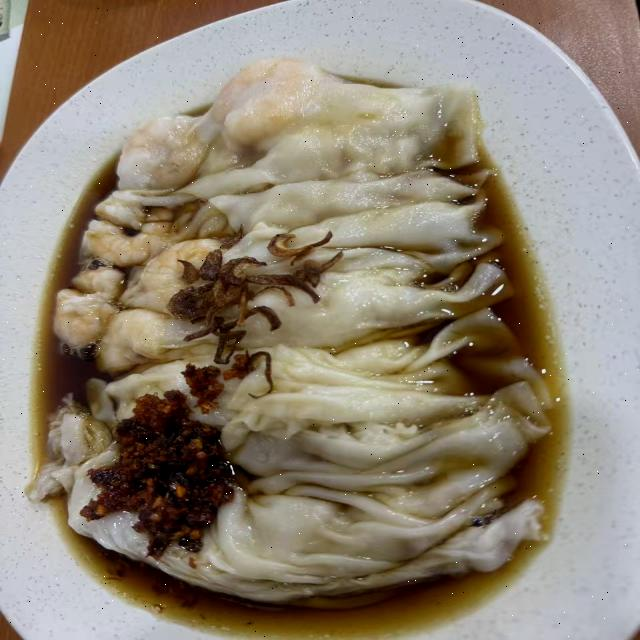Chee Cheong Fun: (31, 40, 618, 632)
